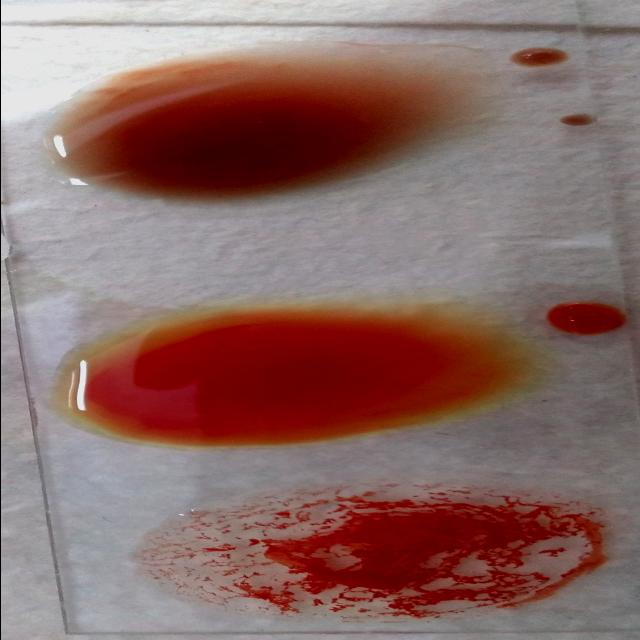D: (128, 492, 599, 628)
